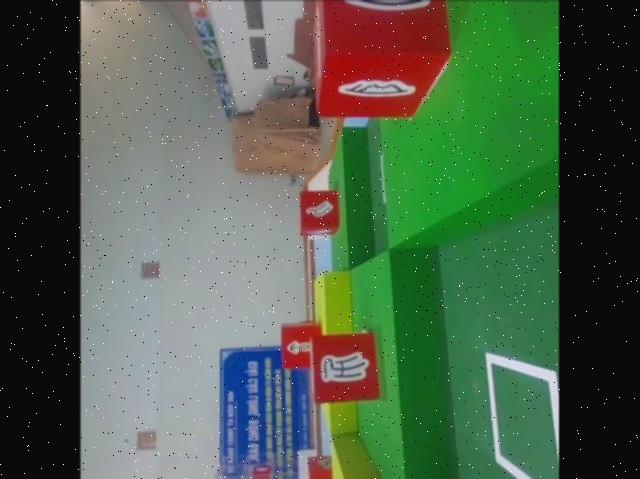R2 Fake: (307, 330, 384, 408)
R2 Real: (309, 0, 449, 120), (278, 318, 324, 371), (299, 189, 341, 237)
